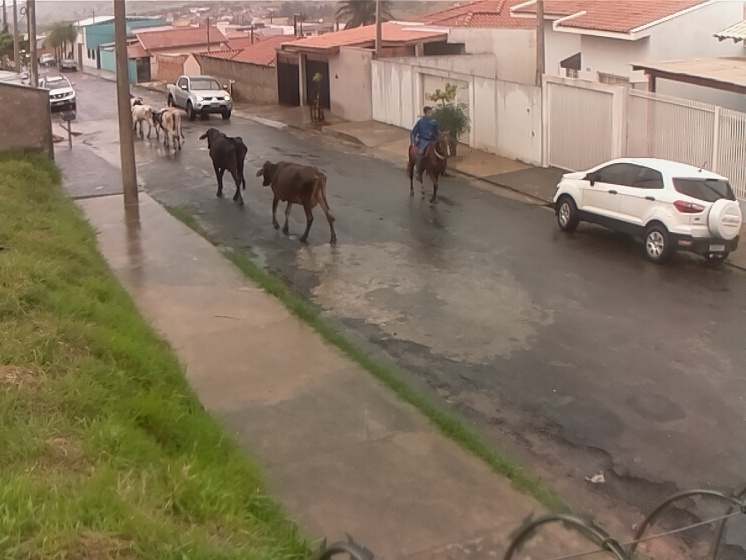person: (410, 104, 446, 180)
